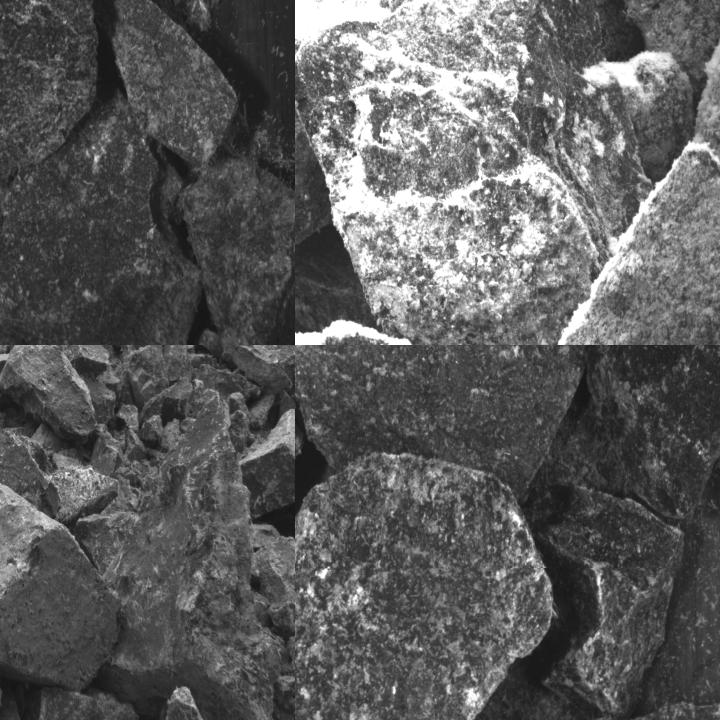stone: (295, 0, 655, 344), (295, 452, 555, 719), (75, 393, 281, 719), (0, 86, 203, 344), (295, 345, 586, 499), (541, 136, 719, 344), (540, 486, 682, 719), (80, 0, 239, 174), (0, 483, 123, 681), (587, 345, 719, 517), (180, 162, 294, 344), (295, 0, 360, 256), (0, 0, 98, 166), (0, 423, 118, 526), (0, 345, 97, 442), (607, 0, 719, 79), (240, 409, 294, 521), (249, 528, 294, 650), (138, 374, 212, 424), (148, 686, 249, 719), (23, 692, 140, 719), (122, 345, 170, 408), (221, 345, 277, 386), (58, 345, 110, 376), (217, 345, 294, 364), (164, 345, 198, 383), (92, 432, 121, 476), (157, 418, 179, 453), (124, 428, 146, 461), (116, 403, 140, 433), (139, 416, 163, 444), (193, 345, 222, 359)
